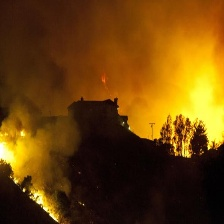fire: (1, 138, 71, 222)
smoke: (12, 9, 220, 152)
